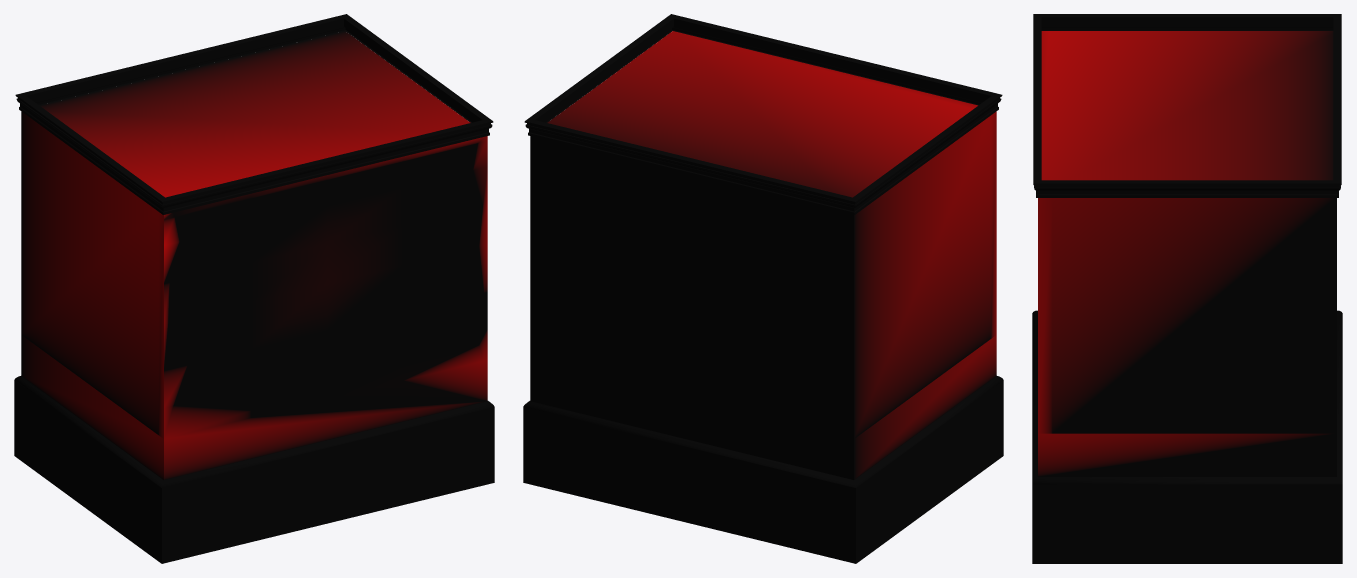
File: House1.fbx
3 renders of one model, left to right at view 1: azimuth 30°, elevation 25°; view 2: azimuth 150°, elevation 25°; view 3: azimuth 270°, elevation 25°, orthographic. The views are drawn at different scales.
Visible parts, largest first — view 1: House1; view 2: House1; view 3: House1.
Boxes of the visible parts, x1,y1,x2,y2 form: House1: (14,14,494,563); House1: (523,14,1003,563); House1: (1032,14,1342,563).
Size of the model in its own units: 1080 by 1120 by 830.
